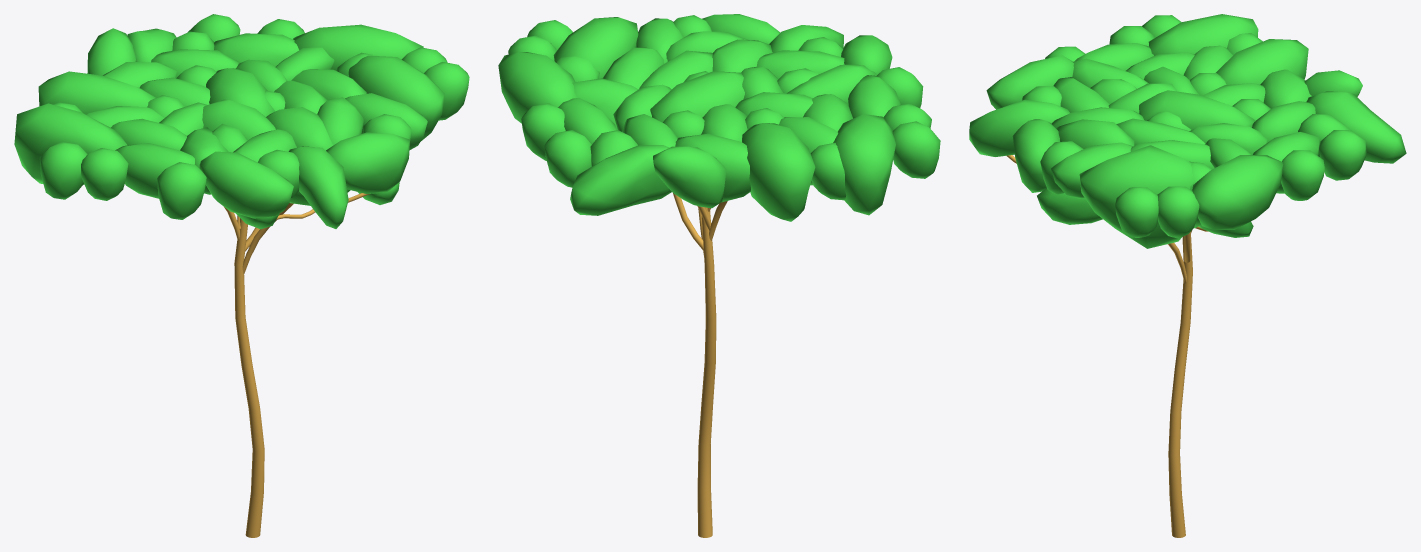
File: tree.glb
3 views of the same model, side by side, from view 1: azimuth 30°, elevation 25°; view 2: azimuth 150°, elevation 25°; view 3: azimuth 270°, elevation 25° (orthographic). The views are drawn at different scales.
Visible parts, largest first — view 1: tree_leaves, tree trunk; view 2: tree_leaves, tree trunk; view 3: tree_leaves, tree trunk.
Part boxes in pixels (box(x1,y1,x2,y2)): tree_leaves: box(14, 14, 469, 229); tree trunk: box(224, 193, 369, 537); tree_leaves: box(498, 14, 940, 221); tree trunk: box(673, 193, 727, 537); tree_leaves: box(969, 14, 1406, 248); tree trunk: box(1006, 155, 1208, 537).
Bounding box in the file's own units: 63.71 × 67.9 × 61.11.
